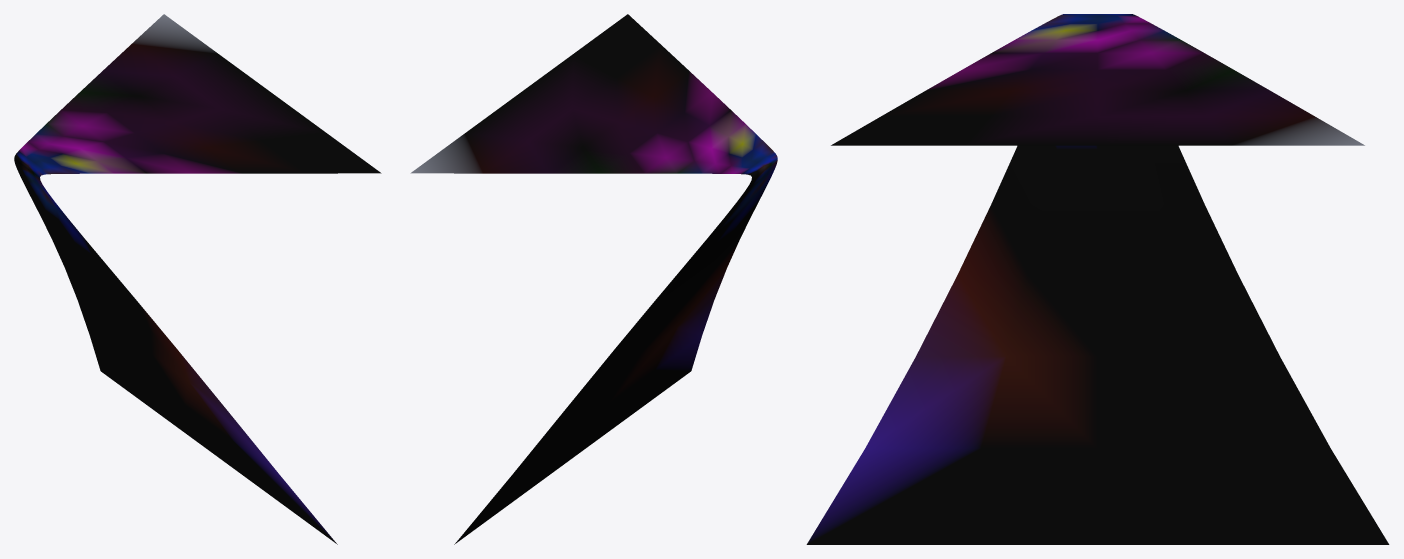
File: CS_LightCones_Wide.gltf
The picture shows the model from 3 angles, left to right: view 1: azimuth 30°, elevation 25°; view 2: azimuth 150°, elevation 25°; view 3: azimuth 270°, elevation 25°; orthographic projection. The views are drawn at different scales.
Visible parts, largest first — view 1: CS_LightCones_Wide; view 2: CS_LightCones_Wide; view 3: CS_LightCones_Wide.
Boxes of the visible parts, x1,y1,x2,y2 form: CS_LightCones_Wide: (14, 14, 381, 544); CS_LightCones_Wide: (410, 14, 777, 544); CS_LightCones_Wide: (806, 14, 1389, 544).
Size of the model in its own units: 53.61 by 73.25 by 89.69.
